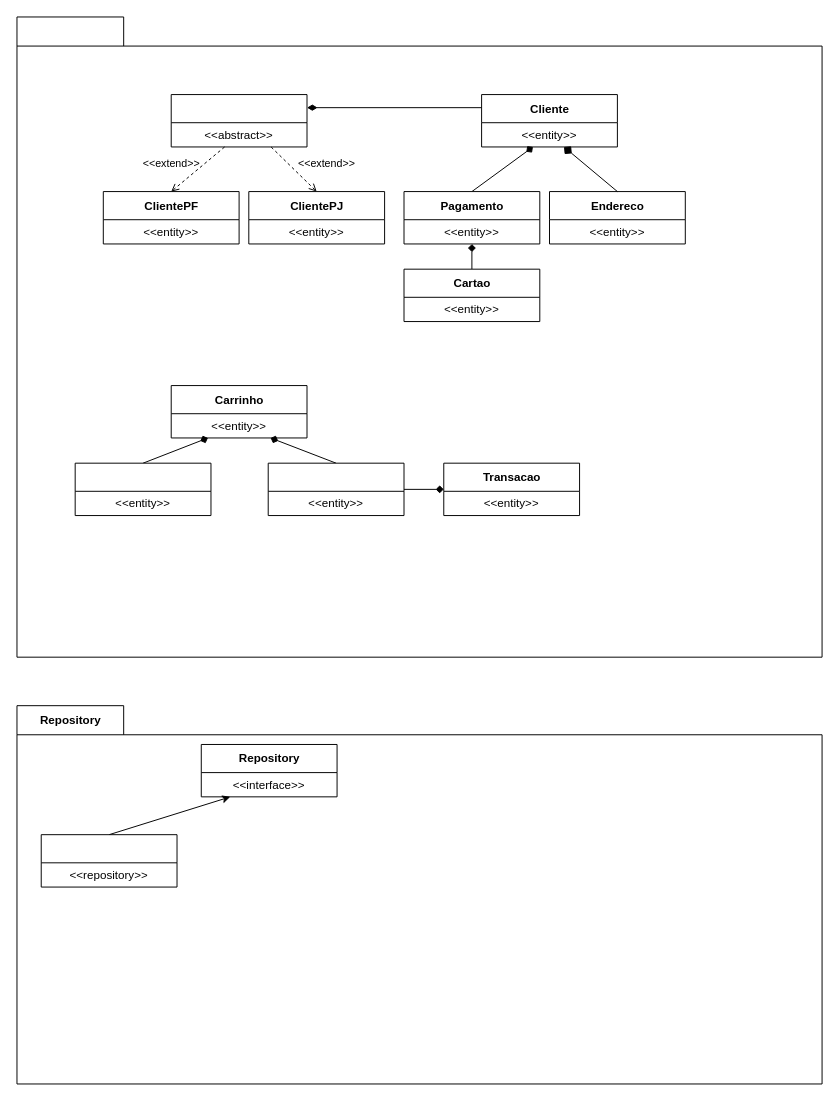
The diagram is 839 pixels wide and 1101 high, and some of its shapes have lost their labels. Here are the shapes that lost their labels. From the top down, the box of each, then its label:
(170, 94, 307, 147): Pessoa
(16, 16, 822, 657): Model
(74, 462, 211, 516): Produto
(267, 462, 404, 516): Loja
(40, 834, 177, 887): ClienteRepository
